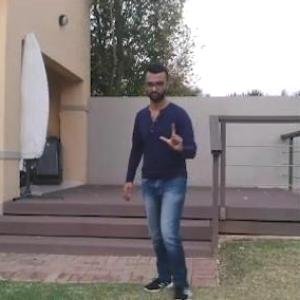land_hand: (155, 118, 190, 158)
